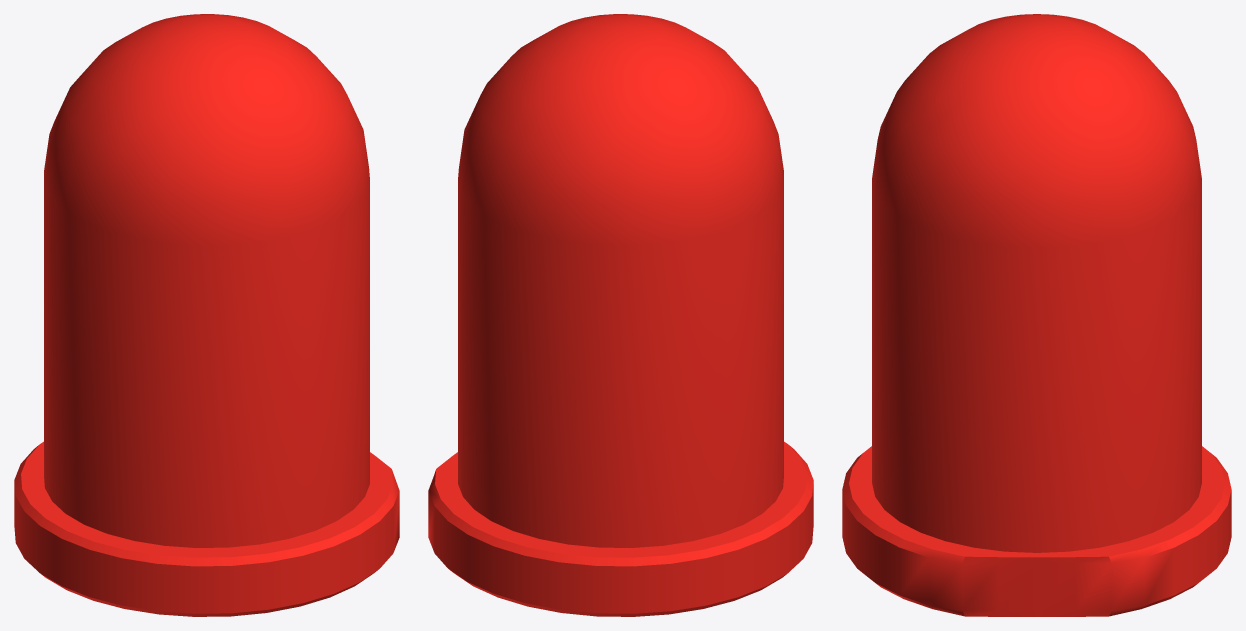
File: led-5mm.glb
3 views of the same model, side by side, from view 1: azimuth 30°, elevation 25°; view 2: azimuth 150°, elevation 25°; view 3: azimuth 270°, elevation 25° (orthographic).
Visible parts, largest first — view 1: body; view 2: body; view 3: body.
Boxes of the visible parts, box(x1,y1,x2,y2) form: body: box(14, 14, 399, 616); body: box(428, 14, 813, 616); body: box(842, 14, 1231, 616).
Bounding box in the file's own units: 5.6 × 8.6 × 5.9.
